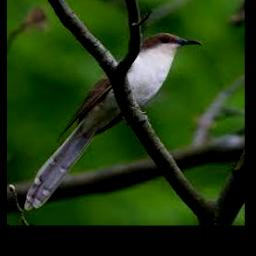Cuckoo: (23, 33, 202, 210)
